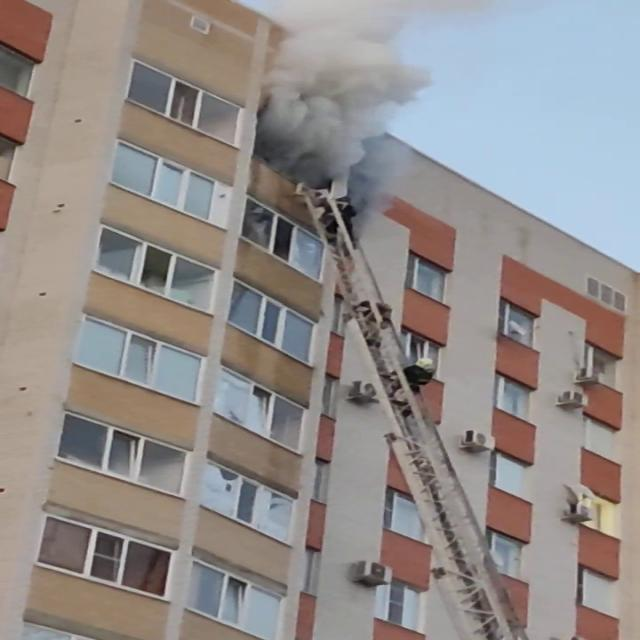Smoke: (241, 0, 527, 184)
